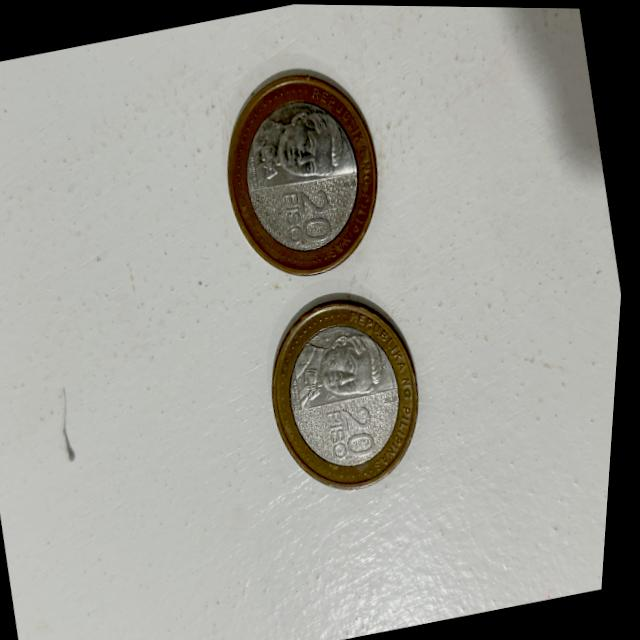20_New_Front: (274, 171, 357, 249), (323, 395, 399, 464)
